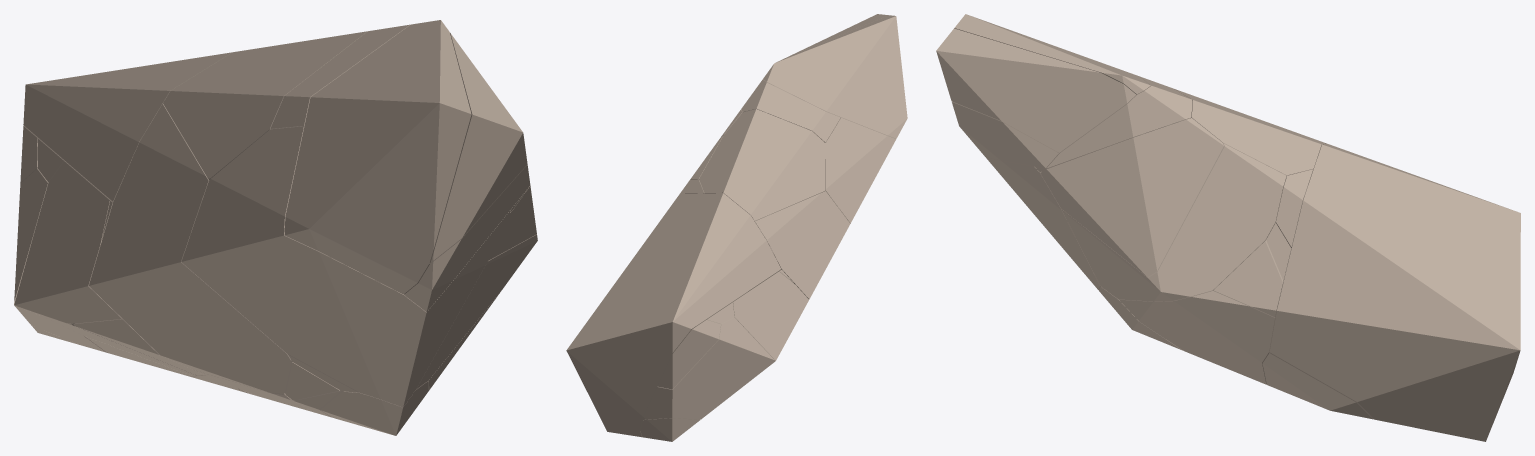
The model's file is rock_2_fractured.glb.
3 renders of one model, left to right at view 1: azimuth 30°, elevation 25°; view 2: azimuth 150°, elevation 25°; view 3: azimuth 270°, elevation 25°, orthographic. The views are drawn at different scales.
Parts seen in each view (by area): view 1: rock_attack_2_cell.002_cell.010, rock_attack_2_cell.003, rock_attack_2_cell.002_cell.014, rock_attack_2_cell.004, rock_attack_2_cell.002_cell.017, rock_attack_2_cell.009_cell.006, rock_attack_2_cell.001, rock_attack_2_cell, rock_attack_2_cell.002_cell.003, rock_attack_2_cell.002_cell, rock_attack_2_cell.009_cell, rock_attack_2_cell.002_cell.005 (+9 smaller); view 2: rock_attack_2_cell.004, rock_attack_2_cell.003, rock_attack_2_cell.002_cell.017, rock_attack_2_cell.009_cell, rock_attack_2_cell.002_cell.014, rock_attack_2_cell.002_cell.010, rock_attack_2_cell.009_cell.006, rock_attack_2_cell.002_cell, rock_attack_2_cell.009_cell.010, rock_attack_2_cell.009_cell.011, rock_attack_2_cell.001; view 3: rock_attack_2_cell.004, rock_attack_2_cell.002_cell.011, rock_attack_2_cell.002_cell.003, rock_attack_2_cell.001, rock_attack_2_cell.002_cell.001, rock_attack_2_cell.002_cell.017, rock_attack_2_cell.002_cell, rock_attack_2_cell.002_cell.010, rock_attack_2_cell, rock_attack_2_cell.002_cell.007, rock_attack_2_cell.003, rock_attack_2_cell.006 (+3 smaller).
Boxes of the visible parts, x1,y1,x2,y2 form: rock_attack_2_cell.002_cell.010: (181, 126, 510, 407); rock_attack_2_cell.003: (284, 20, 471, 294); rock_attack_2_cell.002_cell.014: (89, 104, 291, 394); rock_attack_2_cell.004: (23, 52, 247, 393); rock_attack_2_cell.002_cell.017: (163, 31, 367, 179); rock_attack_2_cell.009_cell.006: (14, 161, 122, 323); rock_attack_2_cell.001: (430, 33, 527, 262); rock_attack_2_cell: (404, 164, 530, 311); rock_attack_2_cell.002_cell.003: (288, 234, 537, 392); rock_attack_2_cell.002_cell: (270, 24, 529, 212); rock_attack_2_cell.009_cell: (14, 168, 106, 352); rock_attack_2_cell.002_cell.005: (320, 381, 428, 435); rock_attack_2_cell.004: (566, 193, 781, 436); rock_attack_2_cell.003: (763, 15, 907, 138); rock_attack_2_cell.002_cell.017: (699, 109, 825, 220); rock_attack_2_cell.009_cell: (642, 317, 775, 420); rock_attack_2_cell.002_cell.014: (754, 191, 850, 299); rock_attack_2_cell.002_cell.010: (825, 117, 896, 223); rock_attack_2_cell.009_cell.006: (733, 271, 808, 360); rock_attack_2_cell.002_cell: (741, 79, 840, 142); rock_attack_2_cell.009_cell.010: (657, 319, 720, 389); rock_attack_2_cell.009_cell.011: (640, 418, 699, 441); rock_attack_2_cell.001: (788, 14, 888, 56); rock_attack_2_cell.004: (1269, 143, 1520, 441); rock_attack_2_cell.002_cell.011: (1040, 118, 1223, 277); rock_attack_2_cell.002_cell.003: (1061, 143, 1287, 301); rock_attack_2_cell.001: (936, 28, 1136, 152); rock_attack_2_cell.002_cell.001: (1119, 290, 1275, 384); rock_attack_2_cell.002_cell.017: (1175, 89, 1326, 175); rock_attack_2_cell.002_cell: (1034, 76, 1191, 172); rock_attack_2_cell.002_cell.010: (986, 157, 1100, 289); rock_attack_2_cell: (952, 102, 1058, 168); rock_attack_2_cell.002_cell.007: (1212, 239, 1285, 317); rock_attack_2_cell.003: (954, 14, 1150, 94); rock_attack_2_cell.006: (1262, 353, 1372, 419).
Size of the model in its own units: 1.16 by 1.88 by 2.67.
